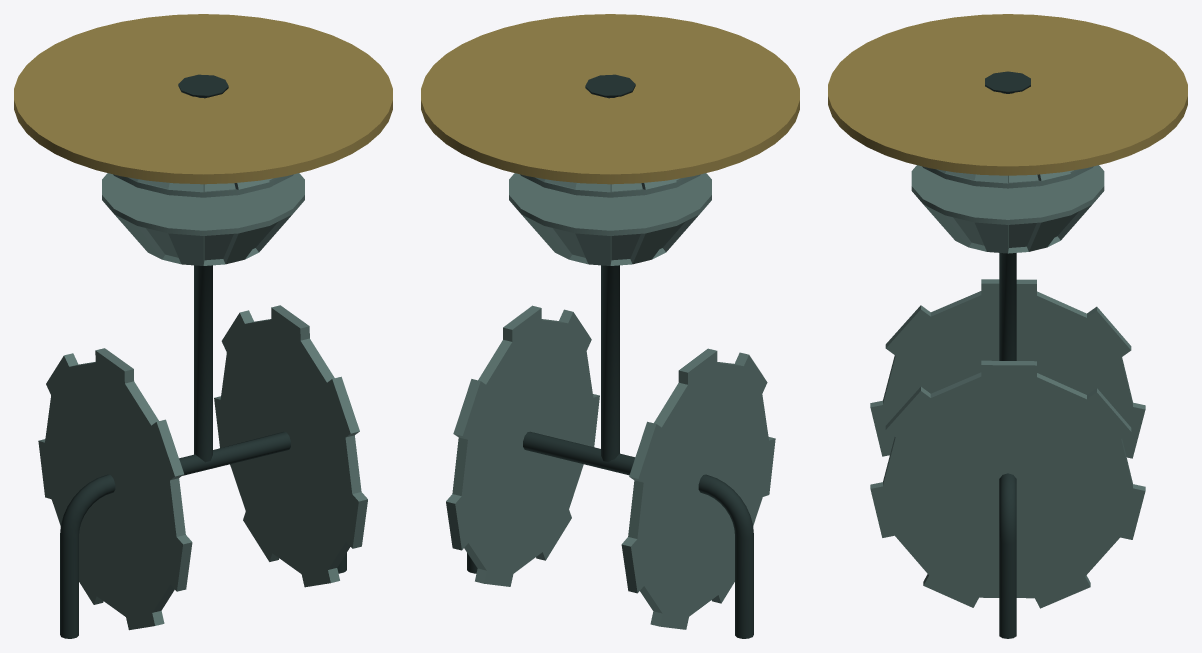
File: Bulb table.FBX
3 renders of one model, left to right at view 1: azimuth 30°, elevation 25°; view 2: azimuth 150°, elevation 25°; view 3: azimuth 270°, elevation 25°, orthographic. The views are drawn at different scales.
Parts seen in each view (by area): view 1: Cylinder003, Cylinder008, Cylinder005, Cylinder009, Cylinder006, Cylinder007; view 2: Cylinder003, Cylinder008, Cylinder005, Cylinder009, Cylinder006, Cylinder007; view 3: Cylinder008, Cylinder003, Cylinder005, Cylinder009, Cylinder006, Cylinder007.
Part boxes in pixels (x1,y1,x2,y2): Cylinder003: [14, 14, 392, 184]; Cylinder008: [214, 305, 367, 587]; Cylinder005: [38, 348, 192, 630]; Cylinder009: [102, 173, 304, 265]; Cylinder006: [60, 432, 346, 638]; Cylinder007: [178, 74, 228, 462]; Cylinder003: [421, 14, 799, 184]; Cylinder008: [446, 305, 599, 586]; Cylinder005: [621, 348, 775, 629]; Cylinder009: [509, 173, 711, 265]; Cylinder006: [467, 431, 753, 638]; Cylinder007: [585, 74, 635, 462]; Cylinder008: [870, 360, 1145, 608]; Cylinder003: [828, 14, 1187, 175]; Cylinder005: [870, 279, 1145, 458]; Cylinder009: [911, 165, 1104, 253]; Cylinder006: [999, 473, 1016, 638]; Cylinder007: [985, 71, 1030, 360].
Size of the model in its own units: 25.42 by 38.19 by 25.35.
